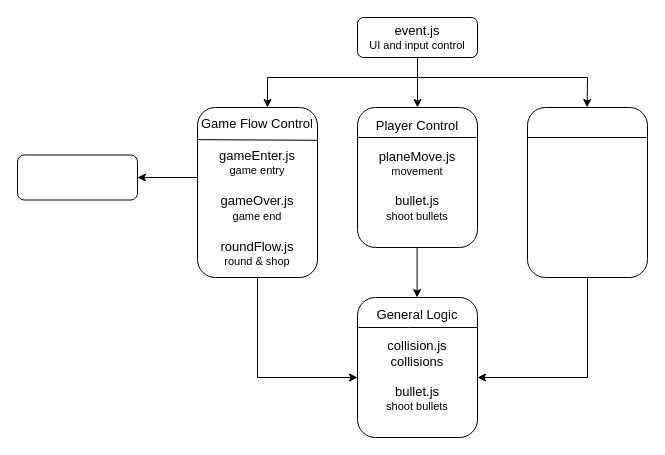
Image size: 665x455. Some labels were removed from this diagram. The shapes that lost their labels are listed below. From the top down, each one's centre as x and y in pixels, then its label:
(77,177): rank.js leaderboard
(587,192): Enemies/Obstacles enemy.js enemy meteorite.js meteorities buff.js power-ups
